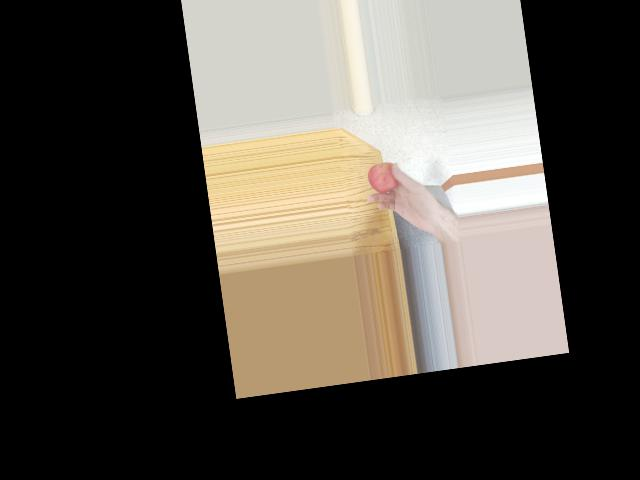apple: (365, 158, 400, 196)
